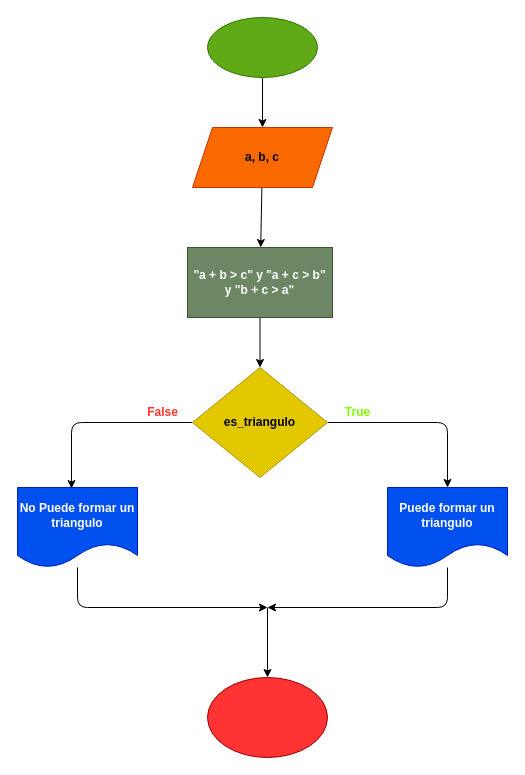
This 525x775 diagram has some shape labels left out. The shapes that lost their labels are listed below. From the top down, each one's centre as x and y in pixels, then its label:
At point (262, 47): "INICIO".
At point (267, 717): "FIN".
